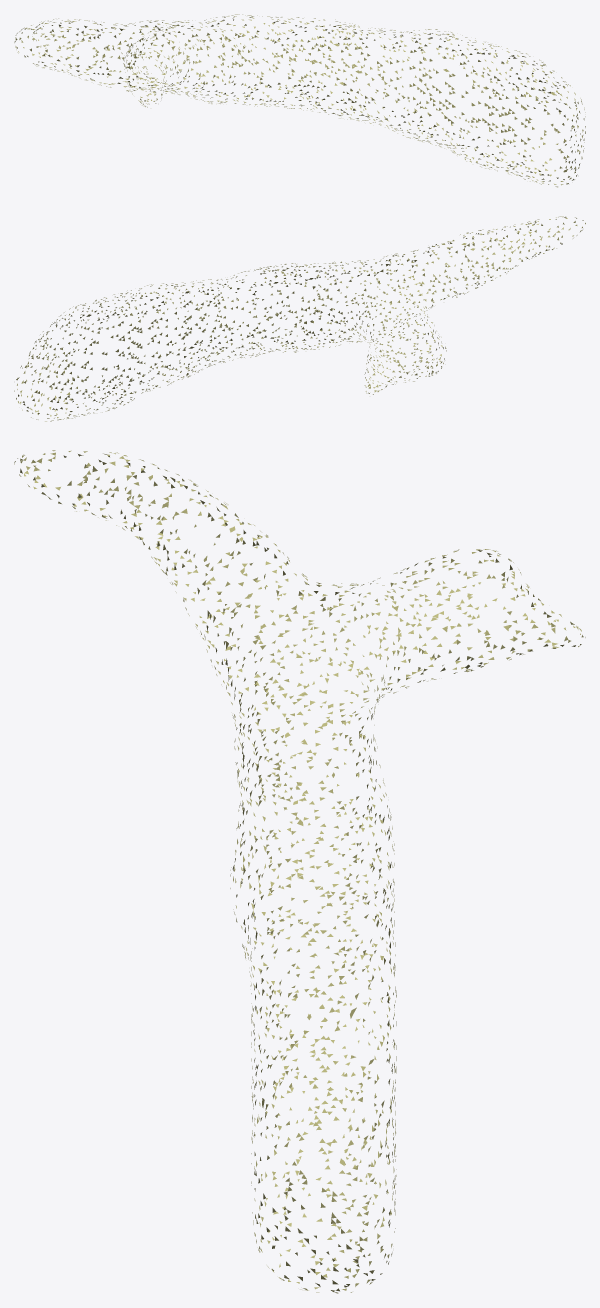
File: morph_009.glb
3 renders of one model, top to bottom at view 1: azimuth 30°, elevation 25°; view 2: azimuth 150°, elevation 25°; view 3: azimuth 270°, elevation 25°, orthographic. The views are drawn at different scales.
Size of the model in its own units: 121 by 63.03 by 70.44.
